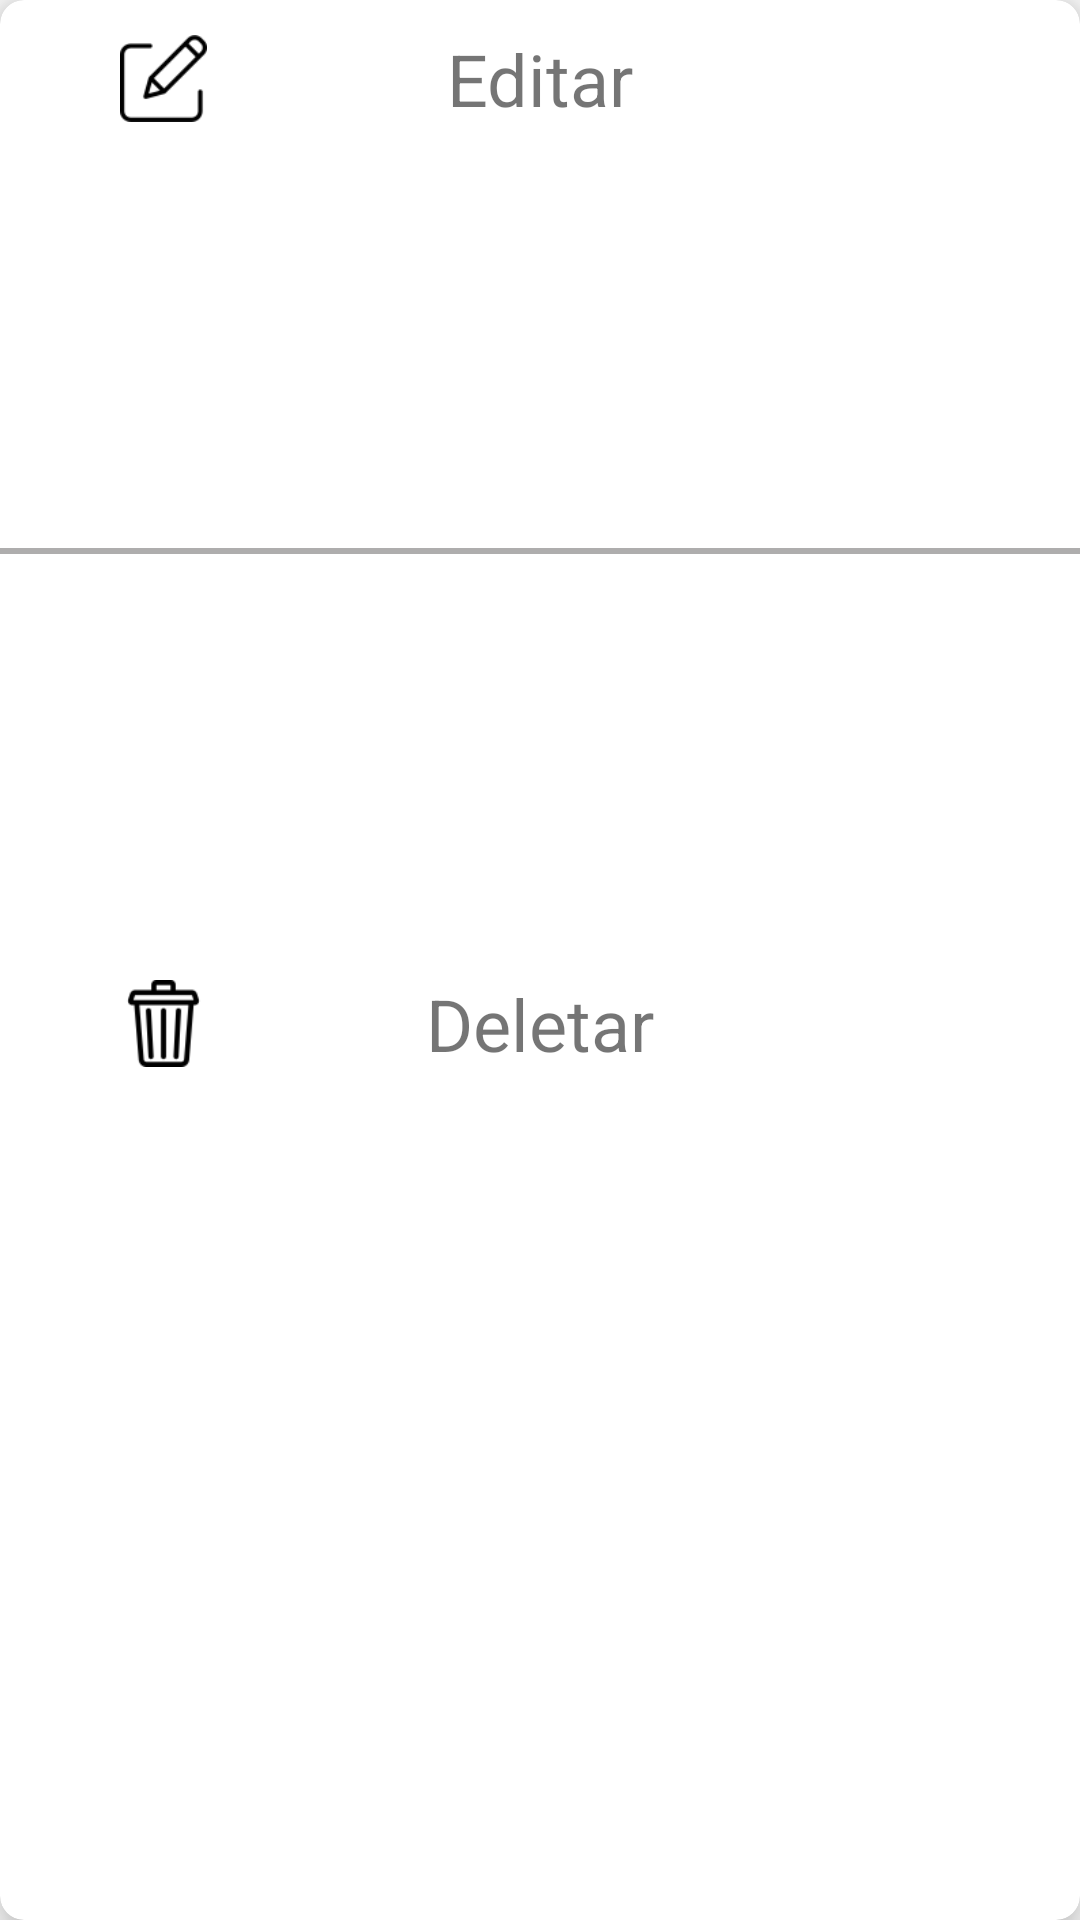

Named icons in this screenshot (1080px x 1920px) and their bounding boxes, (x1, y1, x2, y2):
edit options: (120, 35, 207, 122)
trash option: (128, 980, 200, 1067)
